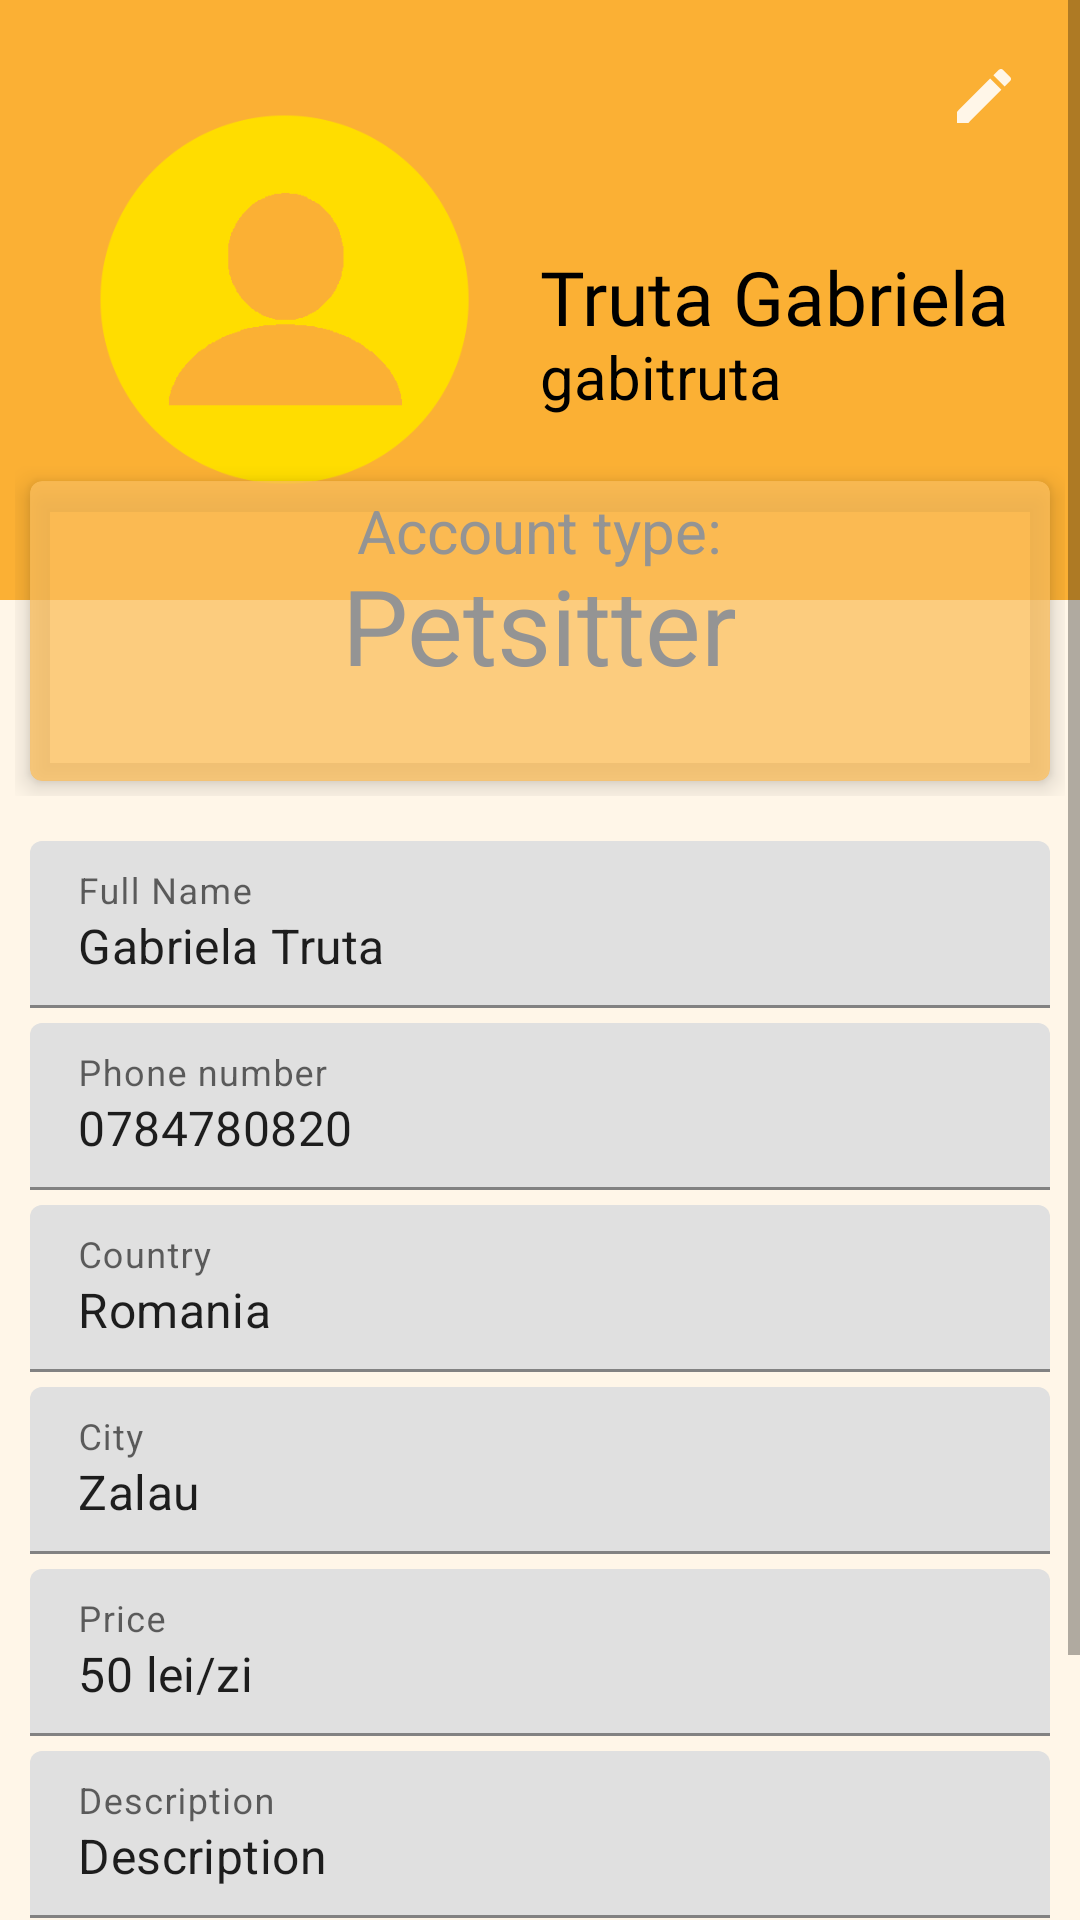

Screen size 1080*1920. Icon name, then its box in pixels as {"left": x1, "top": y1, "right": x2, "bottom": y2}:
edit crem: {"left": 957, "top": 69, "right": 1011, "bottom": 123}
